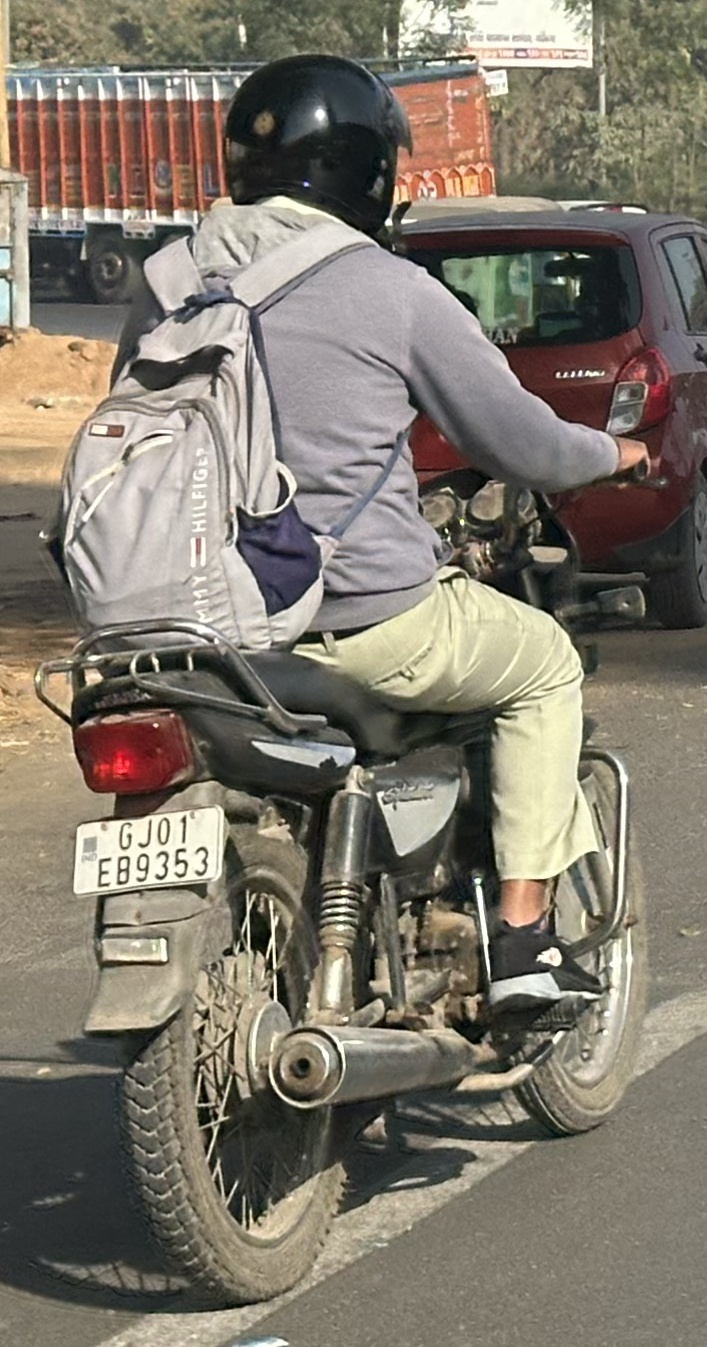BikeWithRider: (53, 48, 666, 1309)
Helmet: (212, 48, 422, 242)
